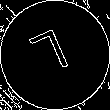L_SE: (31, 26, 79, 84)
